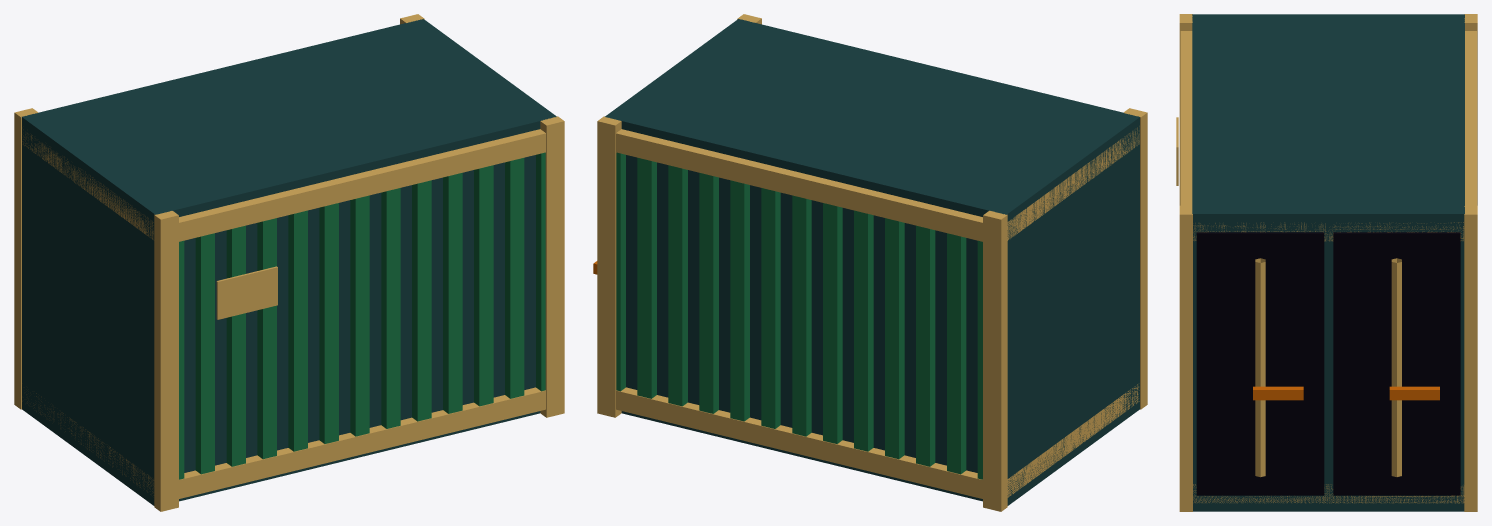
File: cargo_container_neon6.fbx
The picture shows the model from 3 angles, left to right: view 1: azimuth 30°, elevation 25°; view 2: azimuth 150°, elevation 25°; view 3: azimuth 270°, elevation 25°; orthographic projection.
Visible parts, largest first — view 1: Part_0, Part_1, Part_2; view 2: Part_0, Part_1; view 3: Part_0, Part_2, Part_1.
Part boxes in pixels (x1,y1,x2,y2): Part_0: (14,14,556,505); Part_1: (154,151,545,511); Part_2: (173,116,564,480); Part_0: (593,19,1139,511); Part_1: (1124,108,1147,409); Part_0: (1180,14,1477,511); Part_2: (1179,205,1192,511); Part_1: (1176,14,1192,205).
Bounding box in the file's own units: 2.9 × 1.9 × 1.75.
